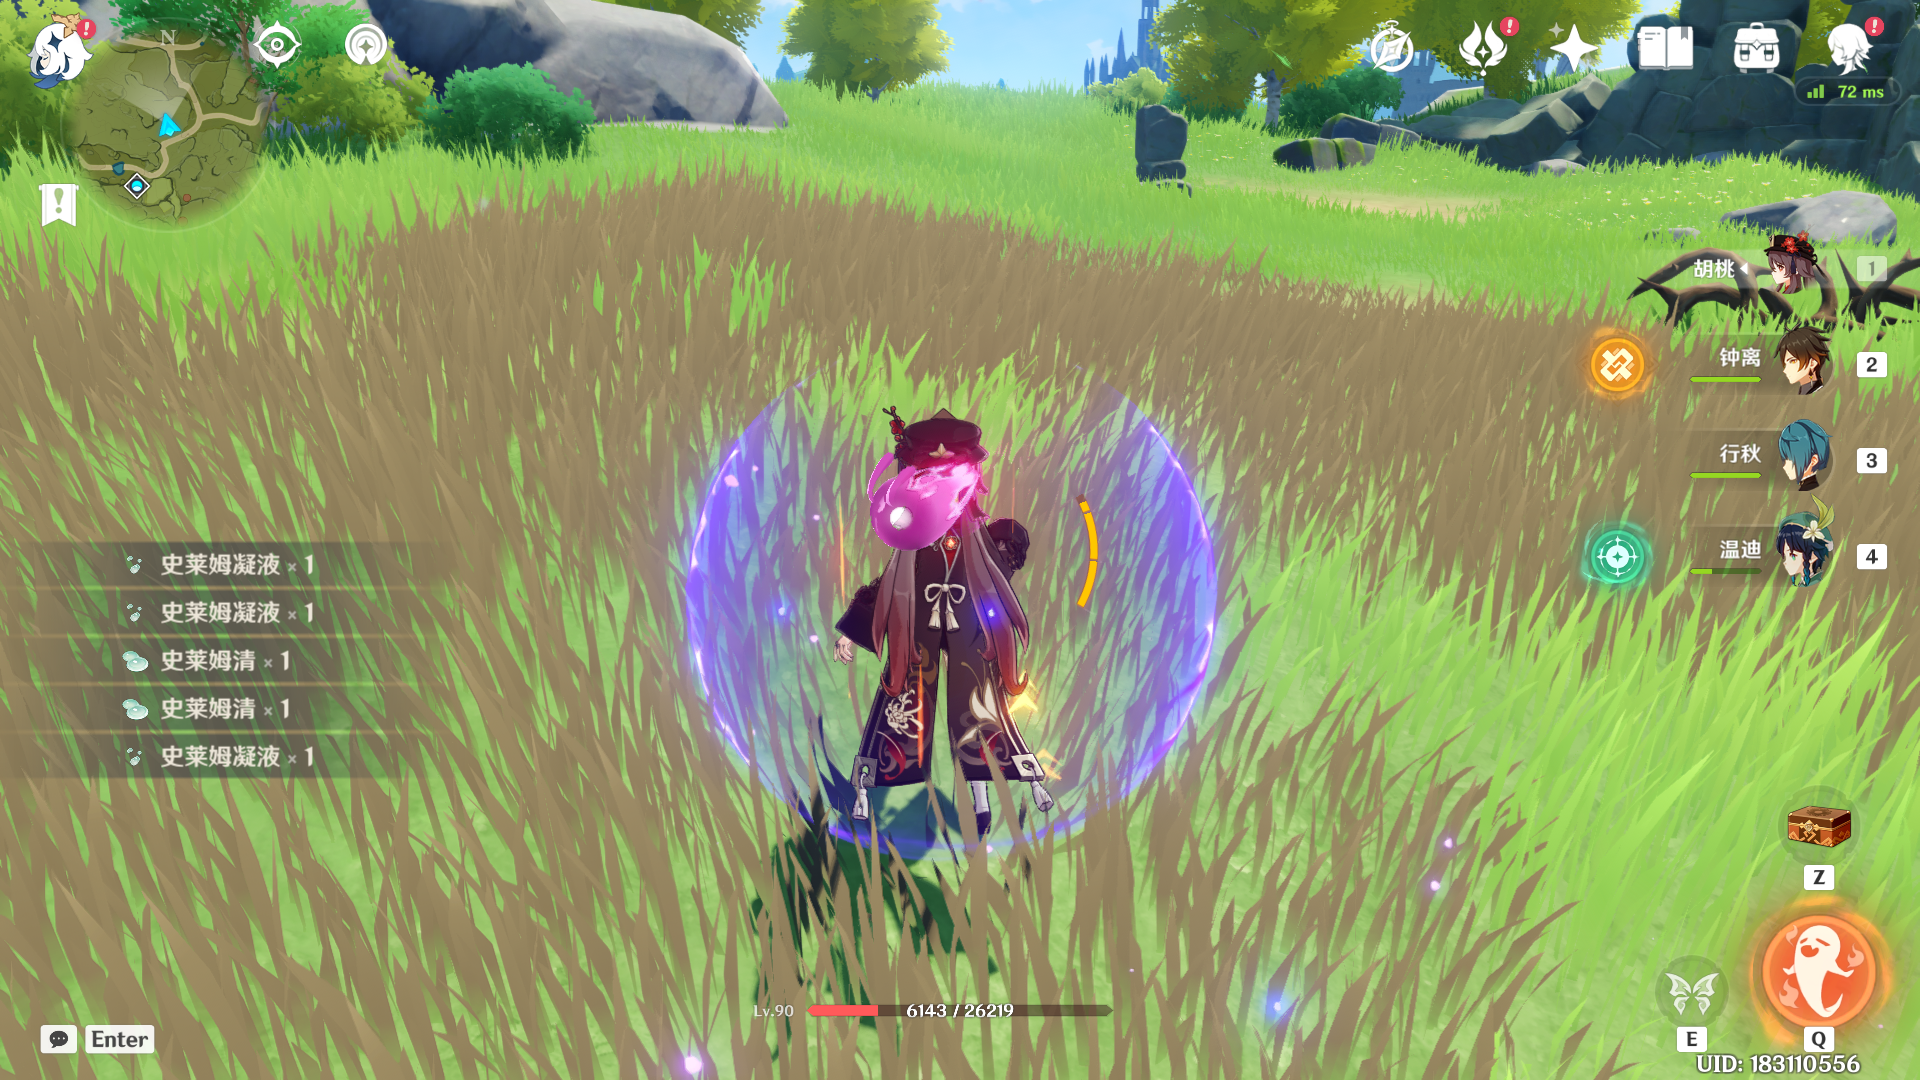character: (737, 359, 1072, 866)
